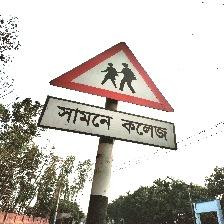College-in-front: (36, 32, 196, 155)
